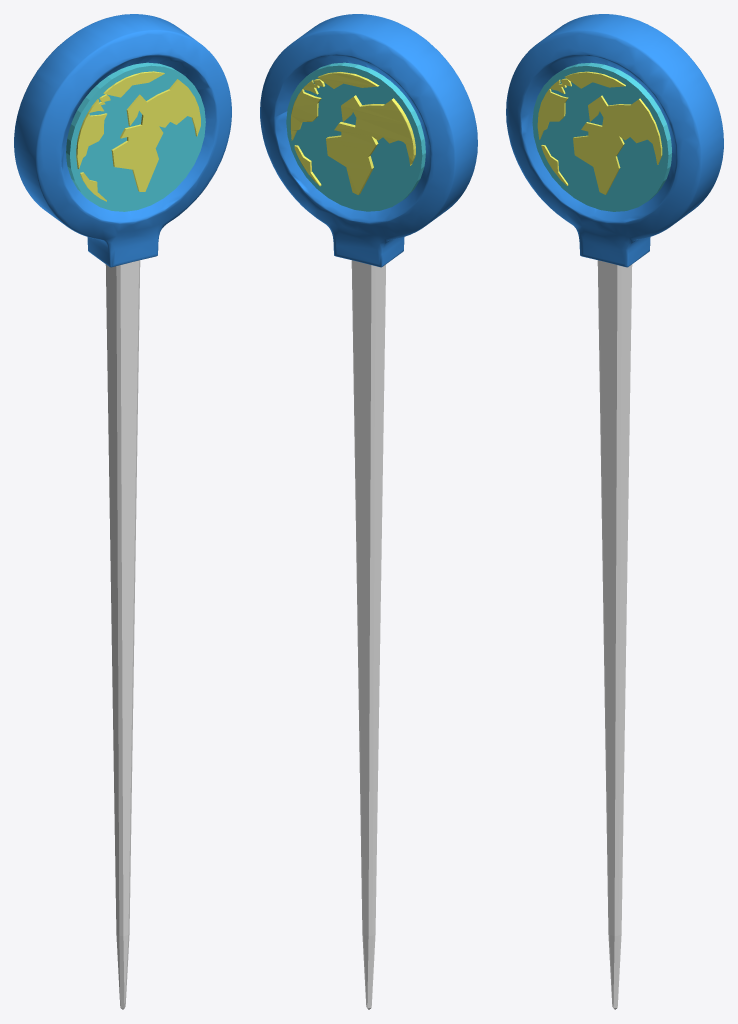
The model's file is BossPin.glb.
The picture shows the model from 3 angles, left to right: view 1: azimuth 30°, elevation 25°; view 2: azimuth 150°, elevation 25°; view 3: azimuth 330°, elevation 25°; orthographic projection.
Parts seen in each view (by area): view 1: MainNeelde.001, MainNeelde.007, Cylinder.001, MainNeelde.032, MainNeelde.034, MainNeelde.031; view 2: MainNeelde.001, MainNeelde.007, Cylinder.001, MainNeelde.014, MainNeelde.016, MainNeelde.010; view 3: MainNeelde.001, MainNeelde.007, Cylinder.001, MainNeelde.032, MainNeelde.034, MainNeelde.031.
Boxes of the visible parts, bbox=[...] form: MainNeelde.001: bbox=[14, 14, 231, 267]; MainNeelde.007: bbox=[105, 260, 140, 1009]; Cylinder.001: bbox=[66, 62, 205, 211]; MainNeelde.032: bbox=[111, 79, 200, 191]; MainNeelde.034: bbox=[76, 112, 107, 168]; MainNeelde.031: bbox=[103, 71, 164, 97]; MainNeelde.001: bbox=[260, 14, 477, 267]; MainNeelde.007: bbox=[351, 260, 385, 1009]; Cylinder.001: bbox=[286, 62, 425, 211]; MainNeelde.014: bbox=[326, 95, 415, 194]; MainNeelde.016: bbox=[290, 89, 321, 140]; MainNeelde.010: bbox=[317, 72, 379, 88]; MainNeelde.001: bbox=[506, 14, 723, 267]; MainNeelde.007: bbox=[597, 260, 632, 1009]; Cylinder.001: bbox=[532, 62, 671, 211]; MainNeelde.032: bbox=[573, 95, 662, 194]; MainNeelde.034: bbox=[537, 89, 568, 139]; MainNeelde.031: bbox=[565, 71, 625, 88].
Size of the model in its own units: 0.00321 by 0.0154 by 0.000929.
